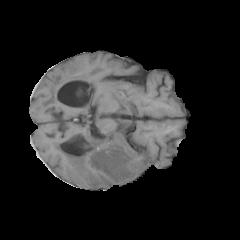glioma: (52, 122, 152, 188)
